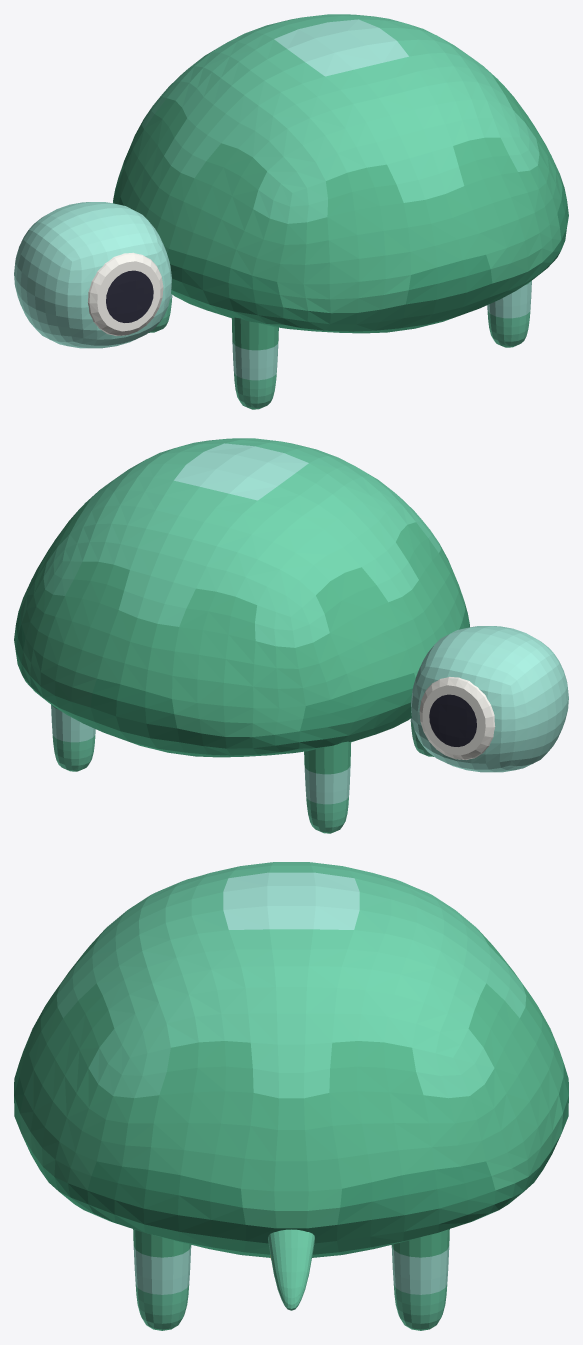
File: Tortoise_LOD0.fbx
The picture shows the model from 3 angles, top to bottom: view 1: azimuth 30°, elevation 25°; view 2: azimuth 150°, elevation 25°; view 3: azimuth 270°, elevation 25°; orthographic projection. The views are drawn at different scales.
Visible parts, largest first — view 1: Mesh; view 2: Mesh; view 3: Mesh.
Part boxes in pixels (x1,y1,x2,y2): Mesh: [14, 14, 568, 409]; Mesh: [14, 438, 568, 833]; Mesh: [14, 862, 568, 1330].
Size of the model in its own units: 235 by 124 by 171.
Materials: 1 (1 with a texture image).
